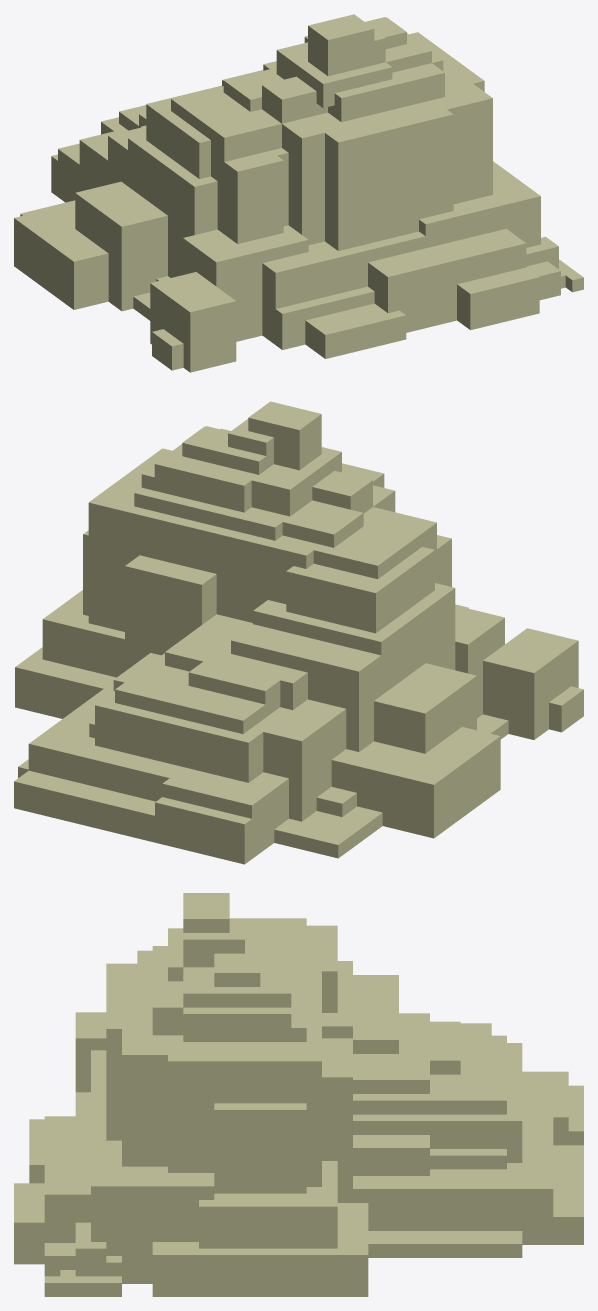
Rendered from Large Dune.obj.
3 views of the same model, one above another, from view 1: azimuth 30°, elevation 25°; view 2: azimuth 150°, elevation 25°; view 3: azimuth 270°, elevation 25° (orthographic). The views are drawn at different scales.
Visible parts, largest first — view 1: Large Dune; view 2: Large Dune; view 3: Large Dune.
Boxes of the visible parts, x1,y1,x2,y2 form: Large Dune: [14, 14, 583, 372]; Large Dune: [14, 401, 583, 864]; Large Dune: [14, 893, 583, 1296].
Size of the model in its own units: 35 by 21 by 37.
1 material, 1 textured.
